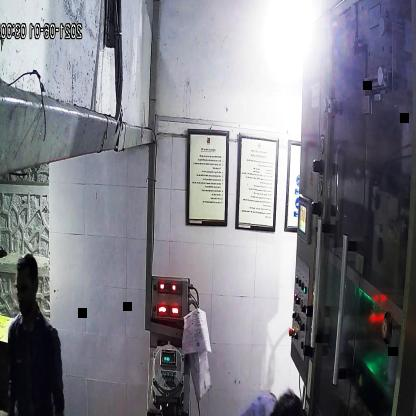no_goggles: (12, 275, 38, 300)
